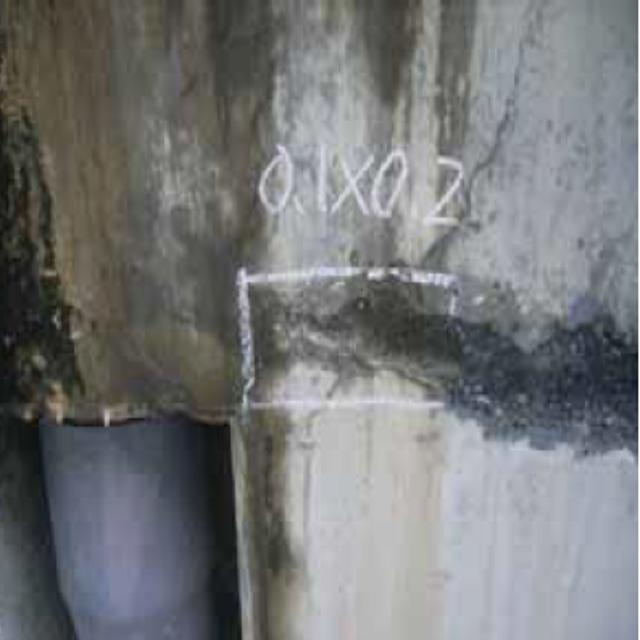spalling: (257, 280, 533, 410)
